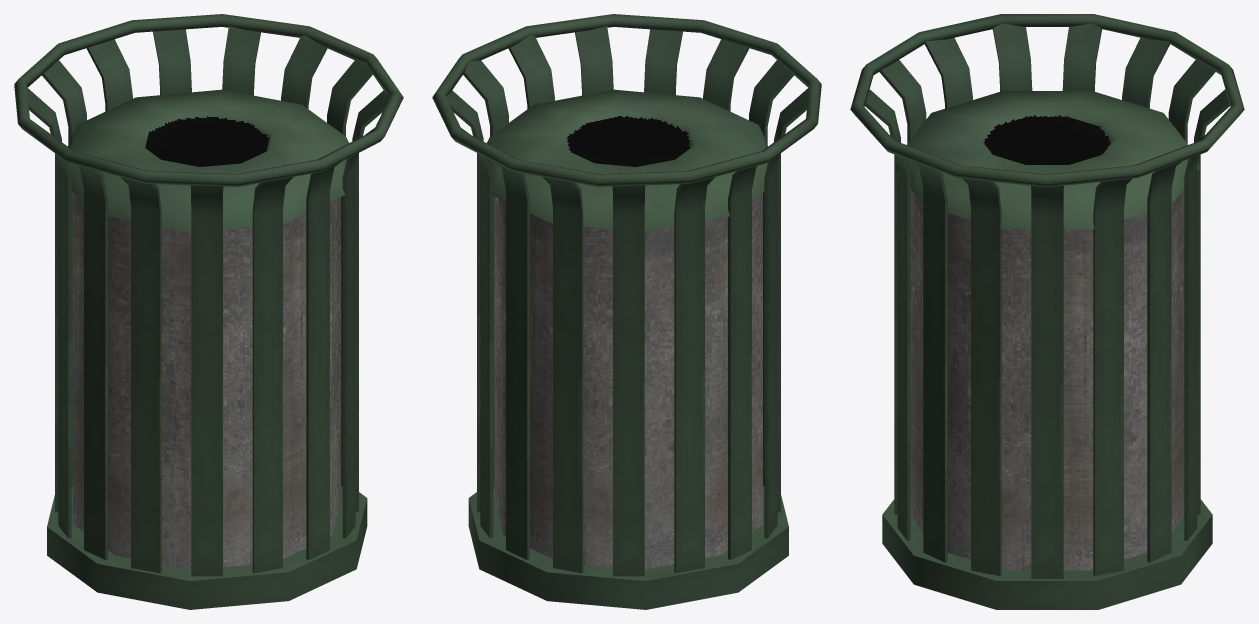
The model's file is metro_trashcan.glb.
The picture shows the model from 3 angles, left to right: view 1: azimuth 30°, elevation 25°; view 2: azimuth 150°, elevation 25°; view 3: azimuth 270°, elevation 25°; orthographic projection.
Parts seen in each view (by area): view 1: trash_can; view 2: trash_can; view 3: trash_can.
Part boxes in pixels (bbox=[...]): trash_can: bbox=[14, 14, 403, 609]; trash_can: bbox=[432, 14, 821, 609]; trash_can: bbox=[850, 14, 1244, 609].
Size of the model in its own units: 0.9869 by 1.25 by 0.9941.
Materials: 1 (1 with a texture image).
